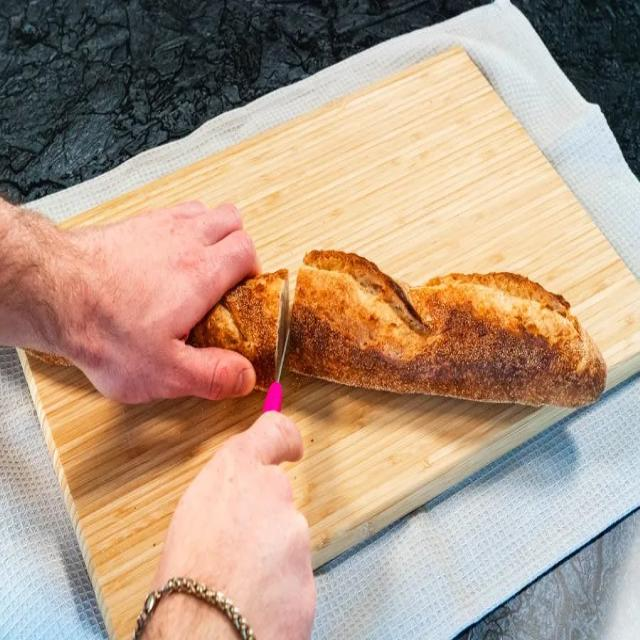Baguette: (285, 251, 606, 406), (186, 269, 289, 388)
